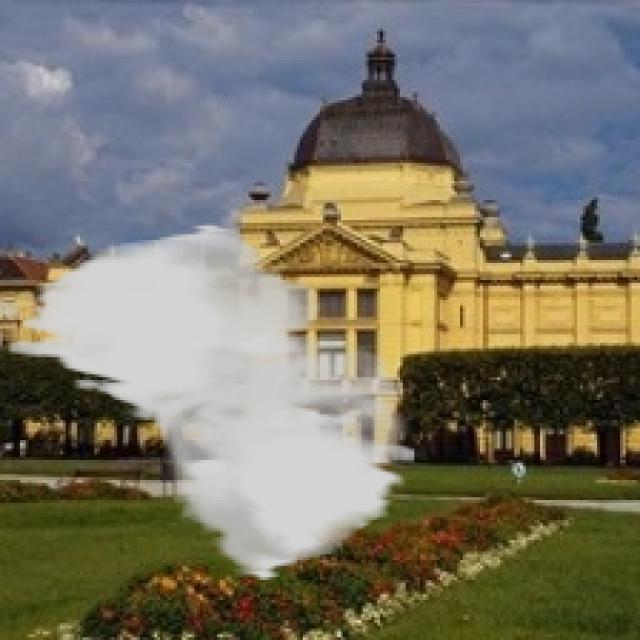Smoke: (9, 223, 418, 583)
